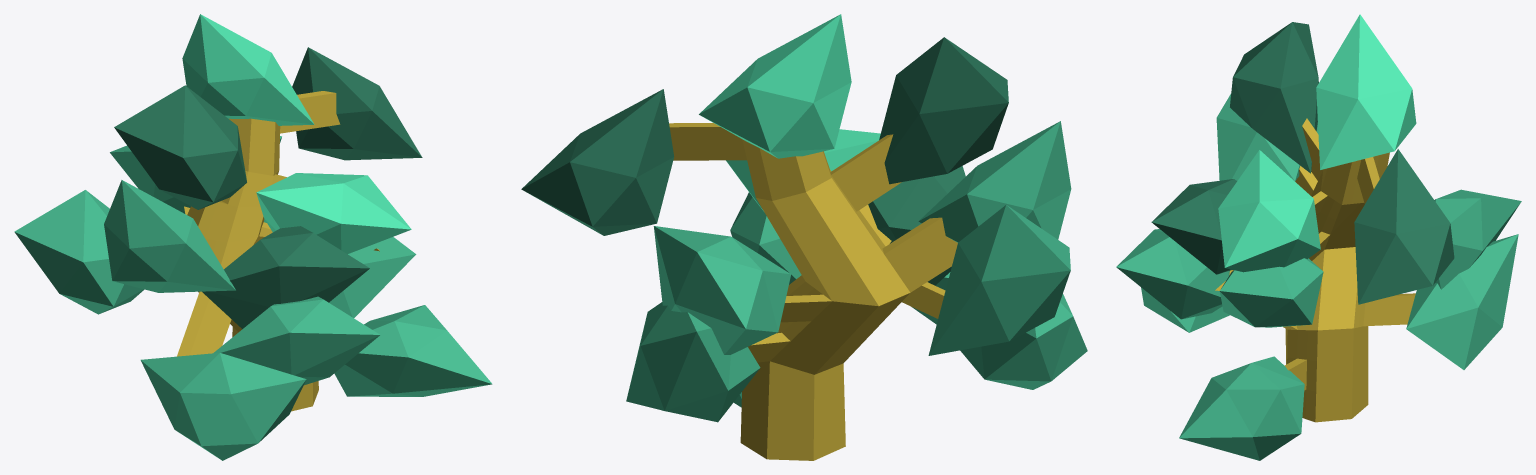
File: tree 1blend.fbx
3 views of the same model, side by side, from view 1: azimuth 30°, elevation 25°; view 2: azimuth 150°, elevation 25°; view 3: azimuth 270°, elevation 25° (orthographic). The views are drawn at different scales.
Parts seen in each view (by area): view 1: tree 1; view 2: tree 1; view 3: tree 1.
Part boxes in pixels (<box>): tree 1: <box>14,14,492,460</box>; tree 1: <box>521,14,1087,460</box>; tree 1: <box>1116,14,1521,460</box>.
Size of the model in its own units: 1068 by 944 by 944.
